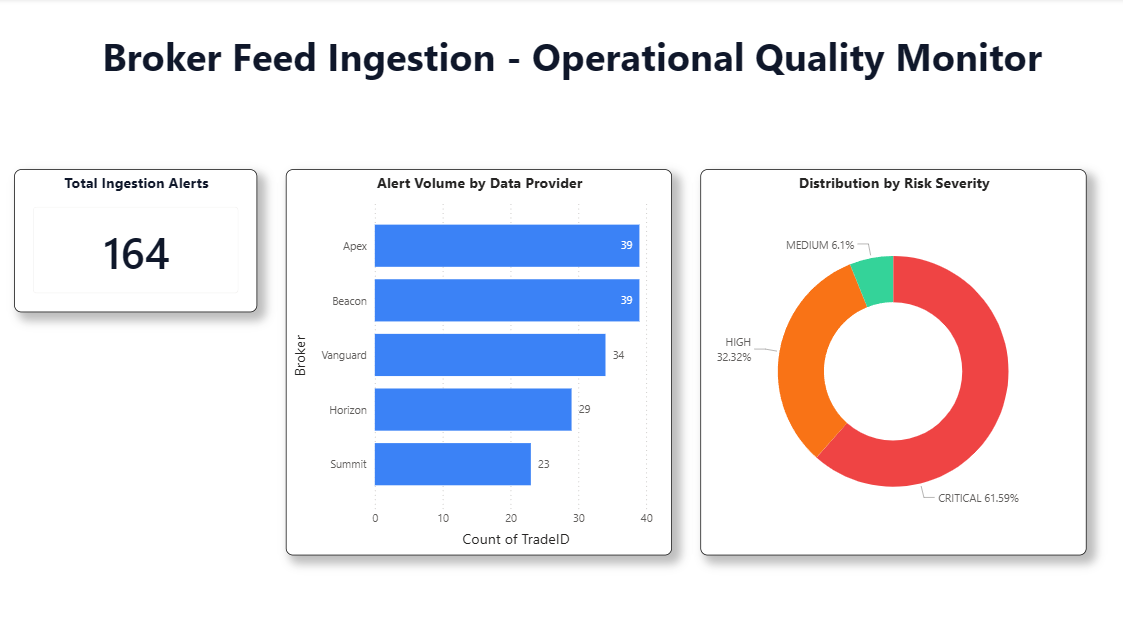

This screenshot's page, from the dashboard's own definition file:
{"tool":"powerbi","page":{"name":"DataOps Feed Monitor","canvas":[1280,720],"ordinal":0},"visuals":[{"type":"cardVisual","title":"Total Ingestion Alerts","fields":{"Data":["CountNonNull(broker_dataops_db feed_errors.TradeID)"]},"box":[16,192,272,160],"z":0},{"type":"clusteredBarChart","title":"Alert Volume by Data Provider","fields":{"Category":["broker_dataops_db feed_errors.Broker"],"Y":["CountNonNull(broker_dataops_db feed_errors.TradeID)"]},"box":[320,192,432,432],"z":1000},{"type":"donutChart","title":"Distribution by Risk Severity","fields":{"Category":["broker_dataops_db feed_errors.Severity"],"Y":["CountNonNull(broker_dataops_db feed_errors.TradeID)"]},"box":[784,192,432,432],"z":2000},{"type":"textbox","box":[16,32,1248,80],"z":3000}]}

Visuals, with their boxes in screenshot pixels (x1, y1, x2, y2), scaled from the page's 1280x720 canvas onto the 1123x624 screenshot:
"Total Ingestion Alerts" cardVisual: <box>14,166,253,305</box>
"Alert Volume by Data Provider" clusteredBarChart: <box>281,166,660,541</box>
"Distribution by Risk Severity" donutChart: <box>688,166,1067,541</box>
textbox: <box>14,28,1109,97</box>
